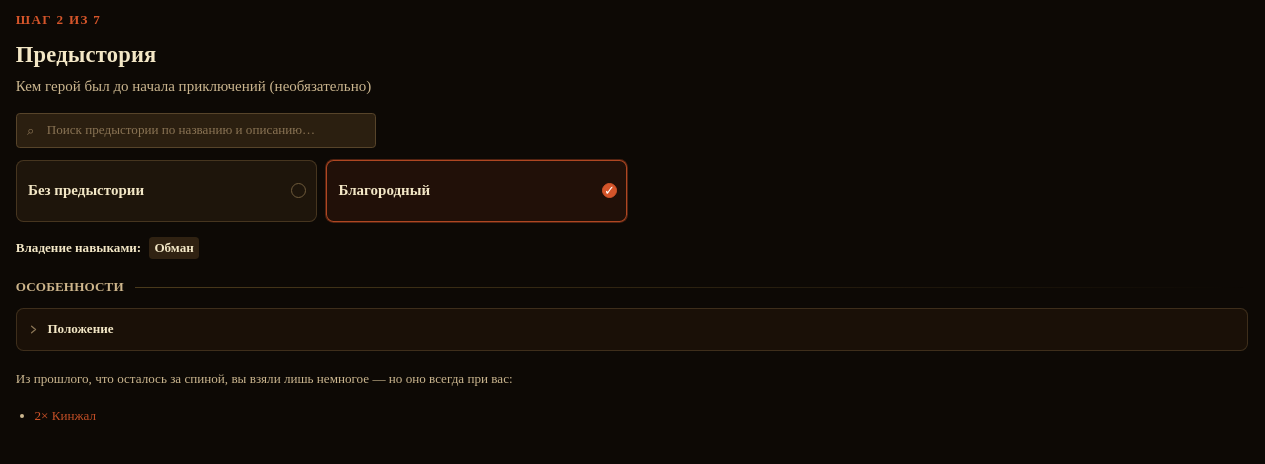
Test: StepBackground › shows granted skills, starting items and features
Expected: the text "Обман" is shown, [149,237,200,259]
Expected: the link "Кинжал" is shown, [52,408,96,423]
Click the button "Положение" at (80, 329), box [27,320,1237,339]
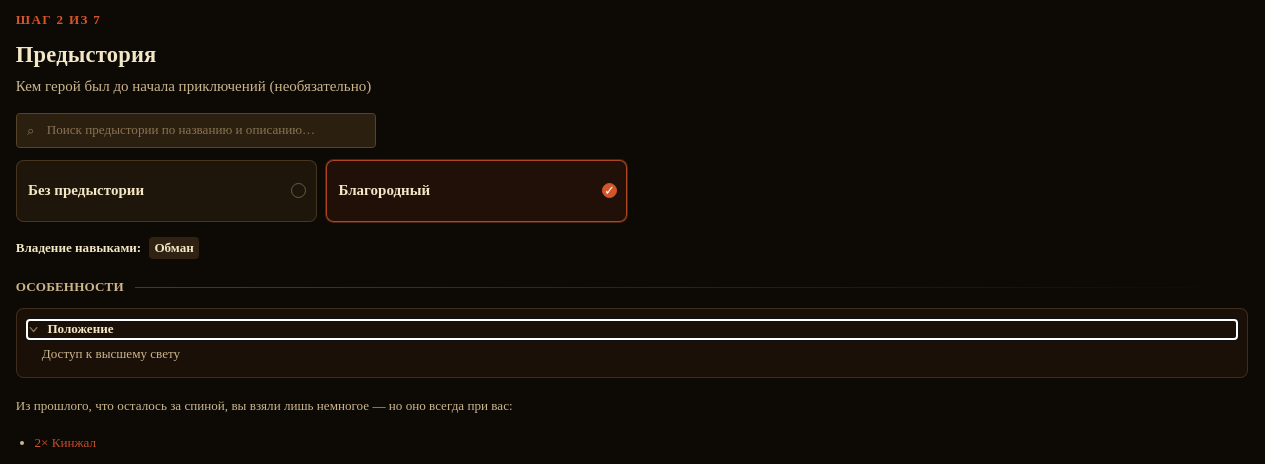
Expected: the text "Доступ к высшему свету" is shown, [42,346,180,361]
